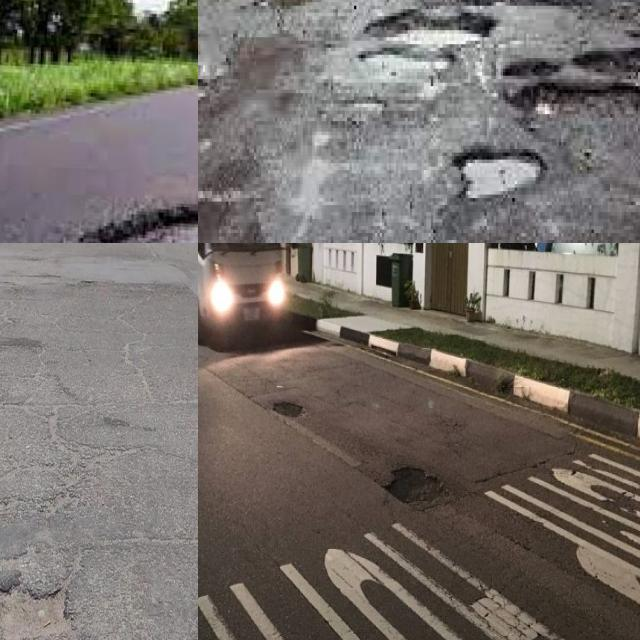Pothole: (498, 48, 640, 114), (447, 149, 547, 209), (0, 568, 77, 640), (384, 467, 447, 503), (273, 401, 303, 417)
